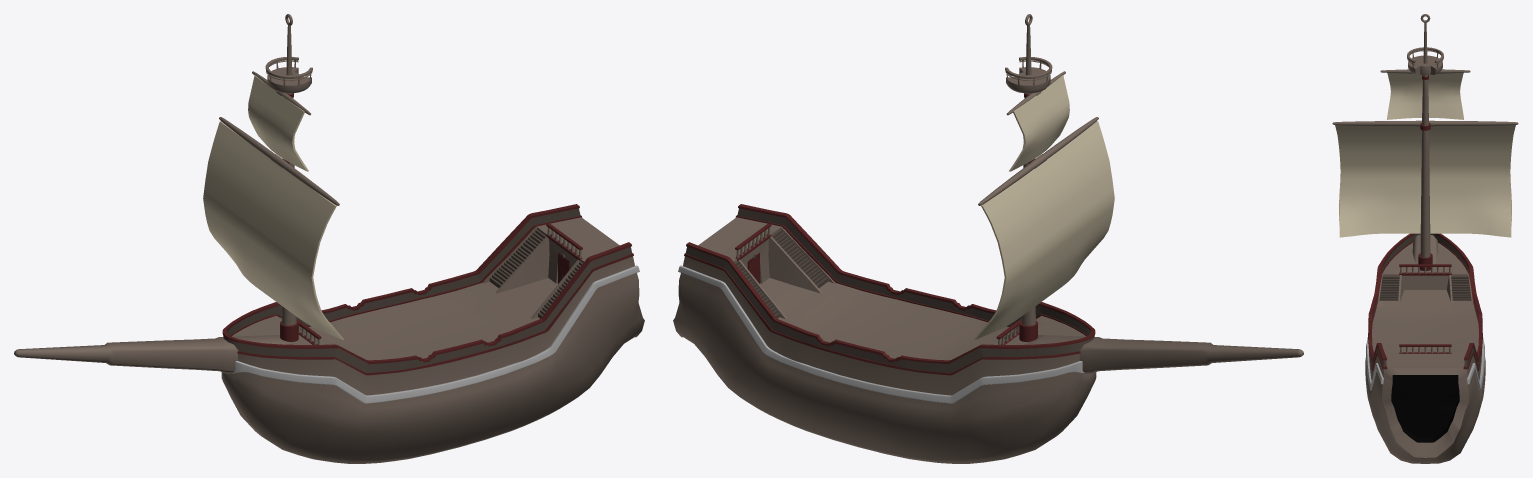
Rendered from Broken_Ship_1.fbx.
3 renders of one model, left to right at view 1: azimuth 30°, elevation 25°; view 2: azimuth 150°, elevation 25°; view 3: azimuth 270°, elevation 25°, orthographic. The views are drawn at different scales.
Visible parts, largest first — view 1: Broken_Ship_1; view 2: Broken_Ship_1; view 3: Broken_Ship_1.
Part boxes in pixels (x1,y1,x2,y2): Broken_Ship_1: [14, 14, 644, 463]; Broken_Ship_1: [673, 14, 1303, 463]; Broken_Ship_1: [1332, 14, 1518, 463].
Size of the model in its own units: 20.19 by 14.49 by 6.77.
